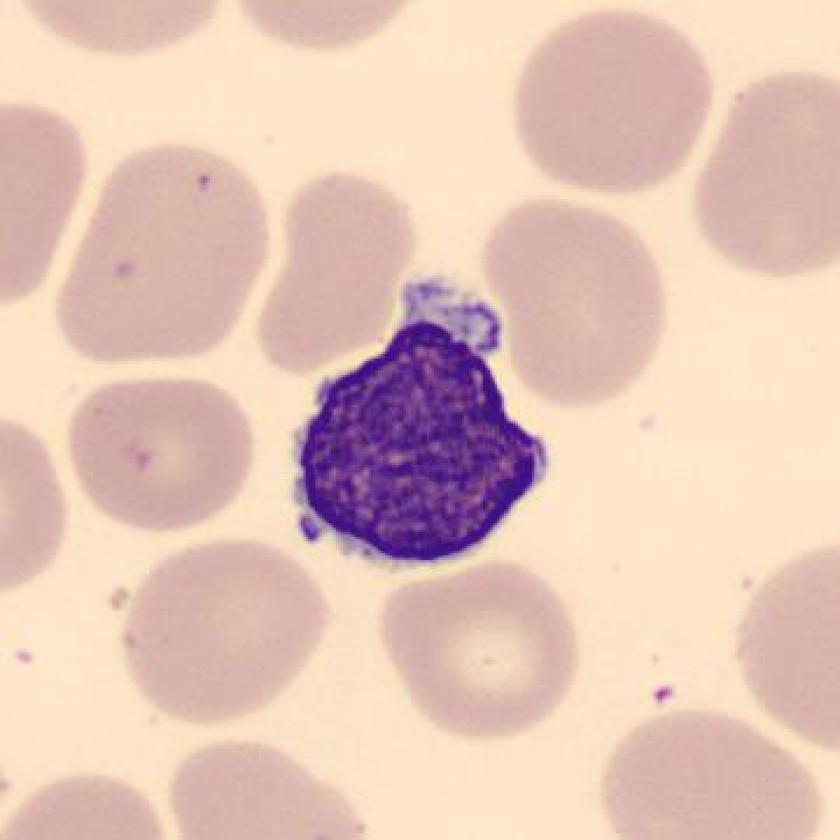lymphocyte: (272, 270, 561, 580)
